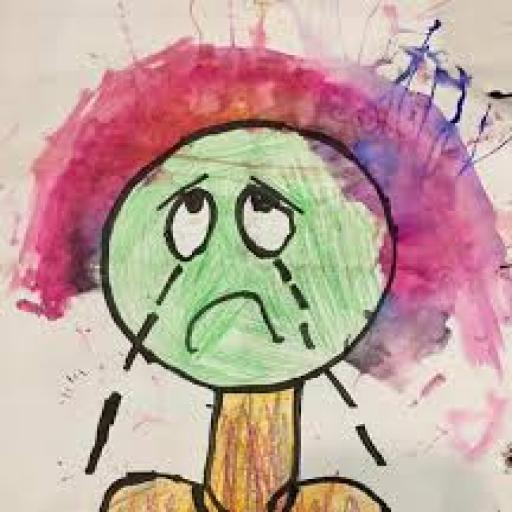person: (83, 110, 401, 512)
